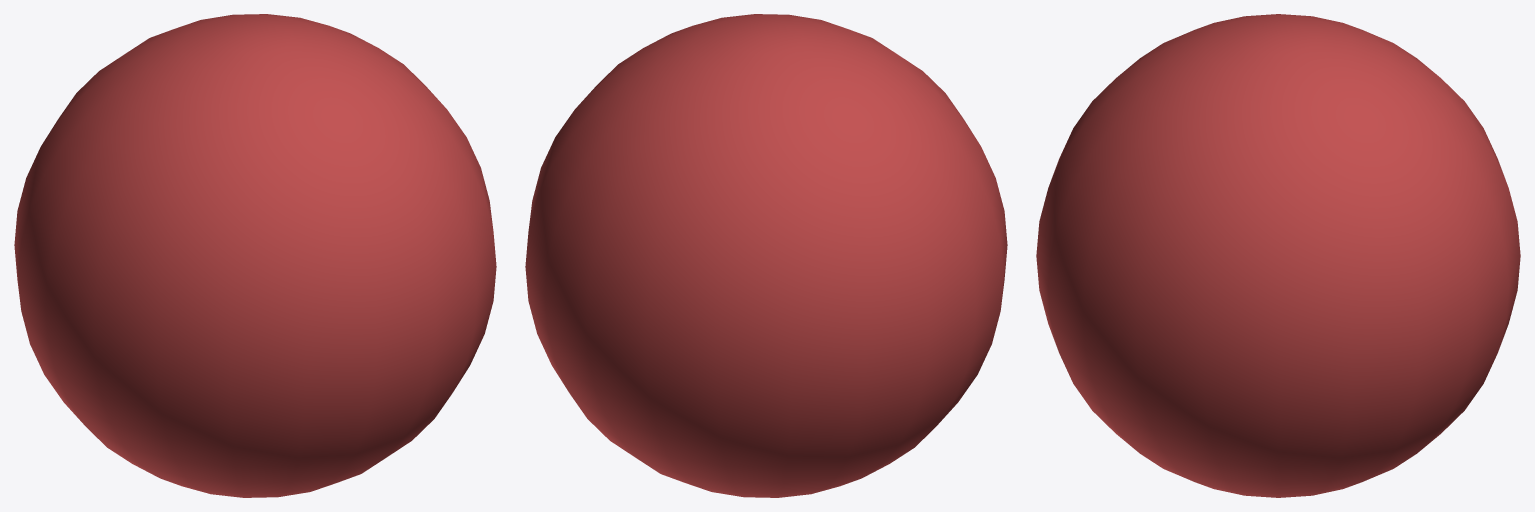
The model's file is thomson-model.glb.
3 views of the same model, side by side, from view 1: azimuth 30°, elevation 25°; view 2: azimuth 150°, elevation 25°; view 3: azimuth 270°, elevation 25° (orthographic).
Visible parts, largest first — view 1: pSphere1; view 2: pSphere1; view 3: pSphere1.
Boxes of the visible parts, <box> form: pSphere1: <box>14,14,496,497</box>; pSphere1: <box>525,14,1007,497</box>; pSphere1: <box>1036,14,1520,497</box>.
Size of the model in its own units: 0.0875 by 0.0875 by 0.0875.
